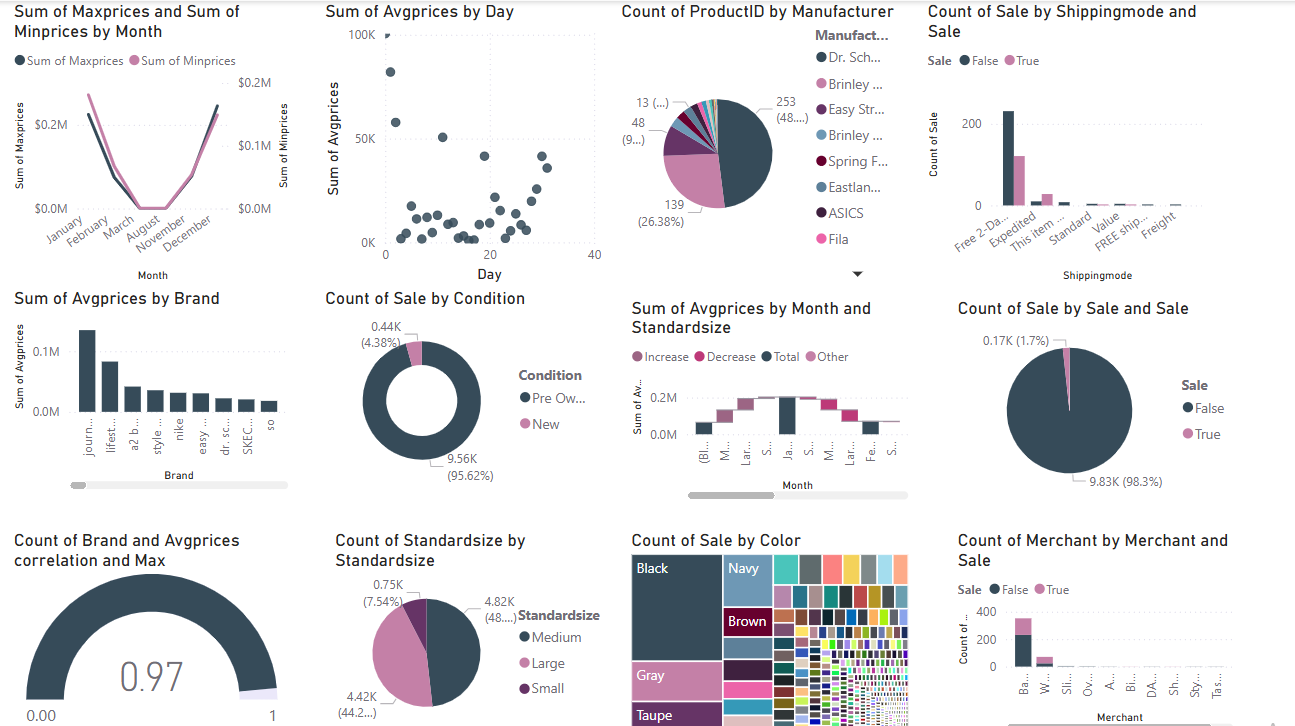

What the dashboard file says about the page in this screenshot:
{"tool":"powerbi","page":{"name":"Dashboard","canvas":[1280,720],"ordinal":1},"visuals":[{"type":"lineChart","fields":{"Category":["in.Prices.dateAdded.Variation.Date Hierarchy.Month","in.Prices.dateAdded.Variation.Date Hierarchy.Day"],"Y":["Sum(in.Maxprices)"],"Y2":["Sum(in.Minprices)"]},"box":[10,0,280,280],"z":0},{"type":"scatterChart","fields":{"Y":["Sum(in.Avgprices)"],"X":["in.Prices.dateAdded.Variation.Date Hierarchy.Day"]},"box":[313.7,0,280.2,280.2],"z":1000},{"type":"pieChart","fields":{"Y":["CountNonNull(in.Standardsize)"],"Category":["in.Standardsize"]},"box":[324.6,517.4,279.7,202.9],"z":2000},{"type":"pieChart","fields":{"Y":["CountNonNull(in.Sale)"],"Category":["in.Sale"],"Series":["in.Sale"]},"box":[933.3,289.9,279.7,202.9],"z":3000},{"type":"columnChart","fields":{"Category":["in.Merchant"],"Y":["CountNonNull(in.Merchant)"],"Series":["in.Sale"]},"box":[933.3,517.4,279.7,202.9],"z":4000},{"type":"treemap","fields":{"Values":["CountNonNull(in.Sale)"],"Group":["in.Color"]},"box":[613.4,517,280.8,203],"z":5000},{"type":"pieChart","fields":{"Category":["in.Manufacturer"],"Y":["CountNonNull(in.ProductID)"]},"box":[604,0,280,280],"z":6000},{"type":"waterfallChart","fields":{"Category":["in.Prices.dateAdded.Variation.Date Hierarchy.Month"],"Y":["Sum(in.Avgprices)"],"Breakdown":["in.Standardsize"]},"box":[613.4,289.4,280.8,203],"z":7000},{"type":"clusteredColumnChart","fields":{"Category":["in.Shippingmode"],"Y":["CountNonNull(in.Sale)"],"Series":["in.Sale"]},"box":[904,0,280,280],"z":8000},{"type":"lineClusteredColumnComboChart","fields":{"Y":["Sum(in.Avgprices)"],"Category":["in.Brand"]},"box":[10.1,279.7,278.3,202.9],"z":9000},{"type":"donutChart","fields":{"Category":["in.Condition"],"Y":["CountNonNull(in.Sale)"]},"box":[314.3,280,280,202.9],"z":10000},{"type":"gauge","fields":{"MaxValue":["in.Max"],"Y":["in.Count of Brand and Avgprices correlation for ProductID"]},"box":[10.1,517.4,279.7,202.9],"z":11000}]}

Visuals, with their boxes in screenshot pixels (x1, y1, x2, y2), scaled from the page's 1280x720 canvas onto the 1295x726 screenshot:
lineChart - in.Prices.dateAdded.Variation.Date Hierarchy.Month x in.Prices.dateAdded.Variation.Date Hierarchy.Day: <region>10, 0, 293, 282</region>
scatterChart - Sum(in.Avgprices) x in.Prices.dateAdded.Variation.Date Hierarchy.Day: <region>317, 0, 601, 283</region>
pieChart - CountNonNull(in.Standardsize) x in.Standardsize: <region>328, 522, 611, 725</region>
pieChart - CountNonNull(in.Sale) x in.Sale: <region>944, 292, 1227, 497</region>
columnChart - in.Merchant x CountNonNull(in.Merchant): <region>944, 522, 1227, 725</region>
treemap - CountNonNull(in.Sale) x in.Color: <region>621, 521, 905, 725</region>
pieChart - in.Manufacturer x CountNonNull(in.ProductID): <region>611, 0, 894, 282</region>
waterfallChart - in.Prices.dateAdded.Variation.Date Hierarchy.Month x Sum(in.Avgprices): <region>621, 292, 905, 497</region>
clusteredColumnChart - in.Shippingmode x CountNonNull(in.Sale): <region>915, 0, 1198, 282</region>
lineClusteredColumnComboChart - Sum(in.Avgprices) x in.Brand: <region>10, 282, 292, 487</region>
donutChart - in.Condition x CountNonNull(in.Sale): <region>318, 282, 601, 487</region>
gauge - in.Max x in.Count of Brand and Avgprices correlation for ProductID: <region>10, 522, 293, 725</region>
